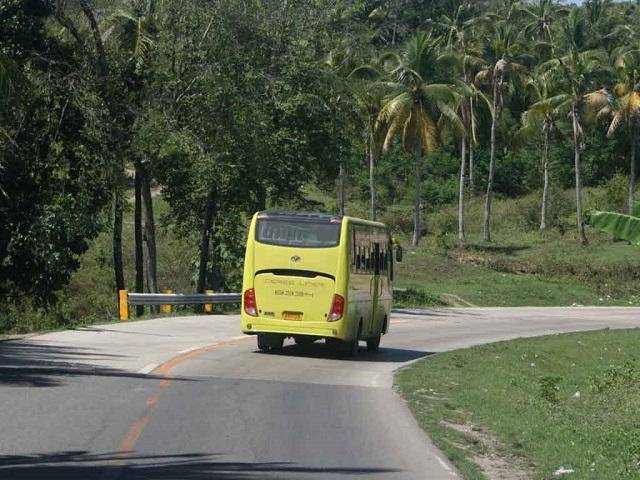bus: (243, 209, 399, 354)
tree: (107, 32, 163, 291), (388, 45, 442, 244), (188, 64, 236, 279), (558, 51, 602, 248), (479, 34, 508, 241), (447, 31, 471, 240)
tree branches: (5, 22, 69, 272)
